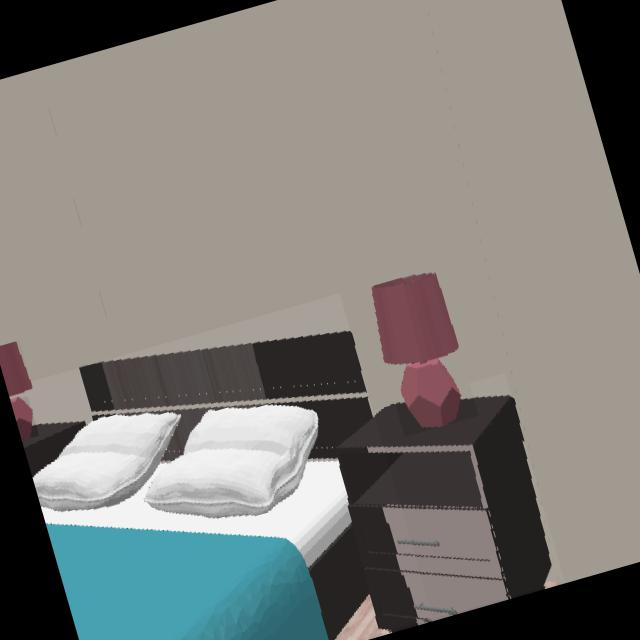bed: (34, 334, 373, 640)
lamp: (372, 274, 461, 427), (0, 345, 32, 396), (11, 400, 32, 440)
nighttable: (337, 398, 552, 630)
